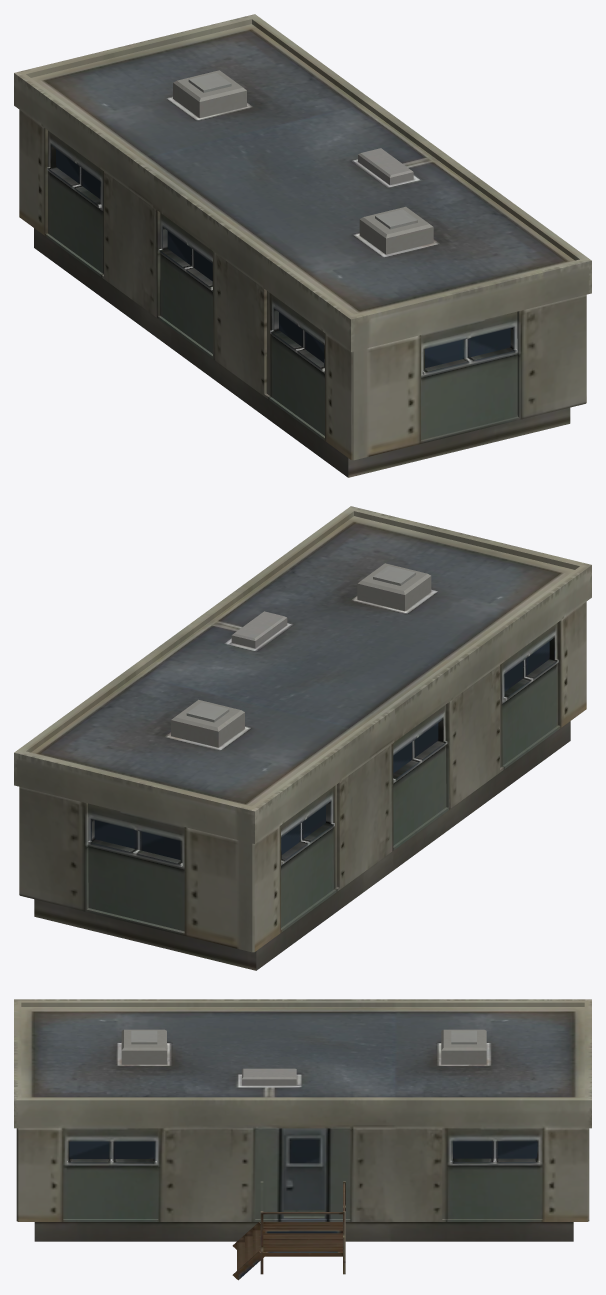
Rendered from portable_cad.glb.
3 views of the same model, one above another, from view 1: azimuth 30°, elevation 25°; view 2: azimuth 150°, elevation 25°; view 3: azimuth 270°, elevation 25° (orthographic). The views are drawn at different scales.
Visible parts, largest first — view 1: Portable; view 2: Portable; view 3: Portable.
Part boxes in pixels (x1=…): Portable: x1=14, y1=14, x2=591, y2=477; Portable: x1=14, y1=506, x2=591, y2=970; Portable: x1=14, y1=999, x2=591, y2=1280.
Size of the model in its own units: 7.92 by 4.63 by 14.75.
1 material, 1 textured.
